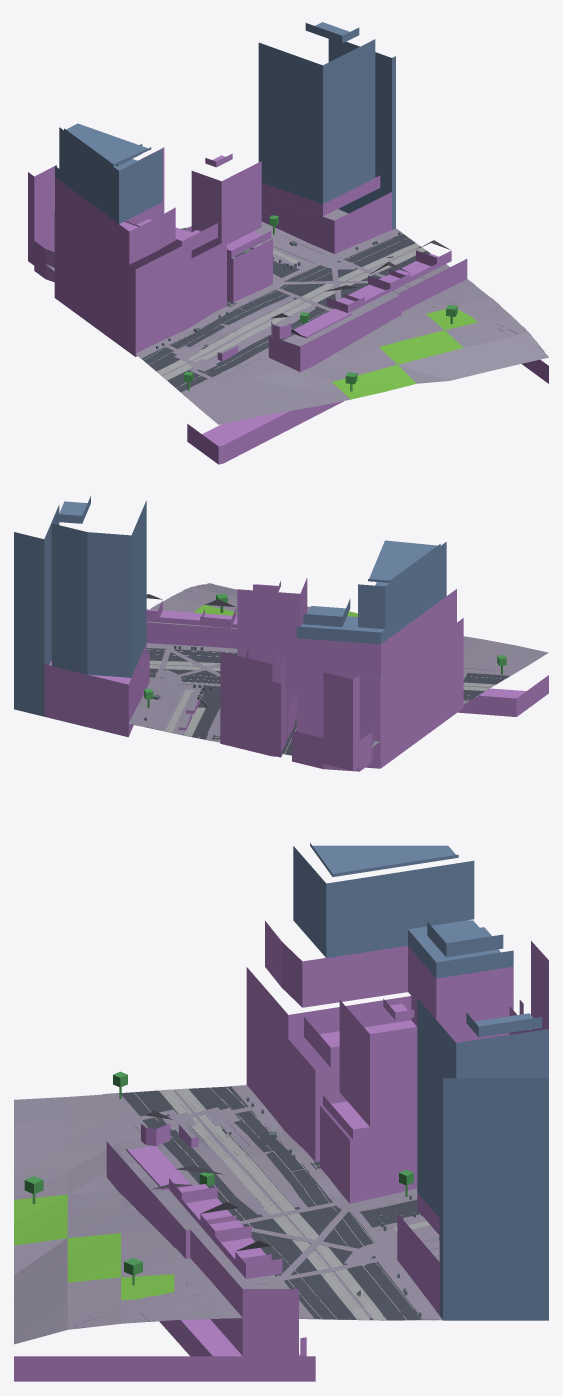
The picture shows the model from 3 angles, top to bottom: view 1: azimuth 30°, elevation 25°; view 2: azimuth 150°, elevation 25°; view 3: azimuth 270°, elevation 25°; orthographic projection. The views are drawn at different scales.
Parts seen in each view (by area): view 1: compiled-chunk; view 2: compiled-chunk; view 3: compiled-chunk.
Part boxes in pixels (x1=…): compiled-chunk: x1=28, y1=22, x2=548, y2=464; compiled-chunk: x1=14, y1=496, x2=548, y2=771; compiled-chunk: x1=14, y1=843, x2=548, y2=1381.
Size of the model in its own units: 142 by 83.8 by 120.
